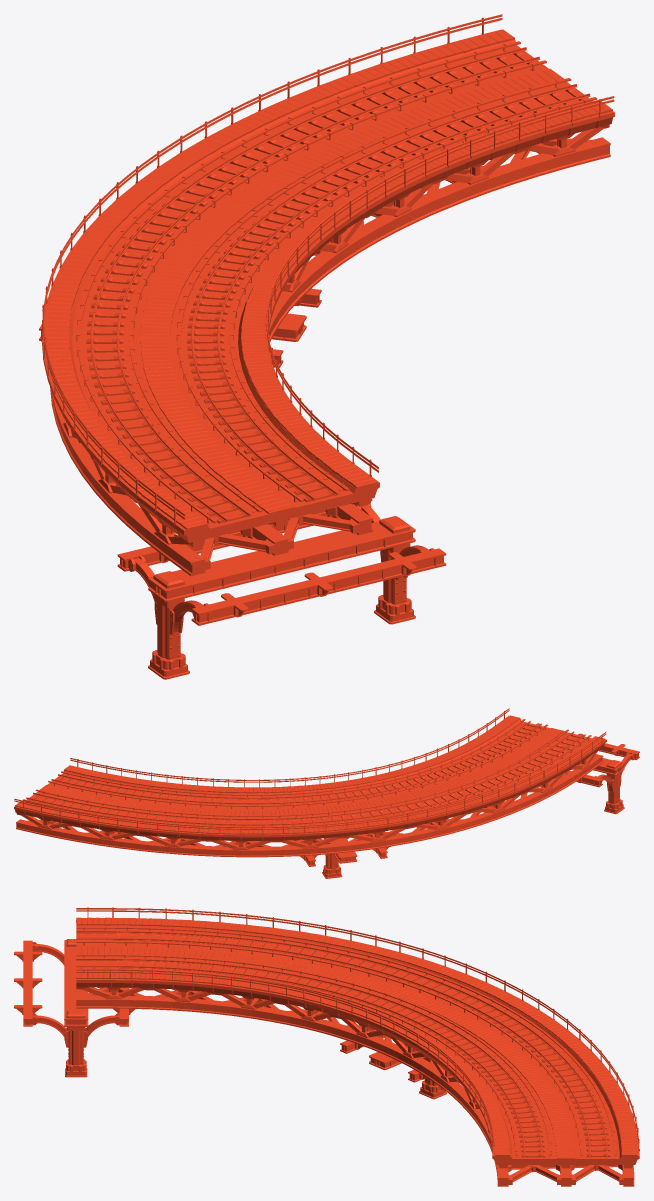
Rendered from SM_Rails_Overground_Turn_City.fbx.
3 views of the same model, one above another, from view 1: azimuth 30°, elevation 25°; view 2: azimuth 150°, elevation 25°; view 3: azimuth 270°, elevation 25° (orthographic). The views are drawn at different scales.
Parts seen in each view (by area): view 1: SM_Rails_Overground_Turn_City; view 2: SM_Rails_Overground_Turn_City; view 3: SM_Rails_Overground_Turn_City.
Part boxes in pixels (left/top/right/bottom): SM_Rails_Overground_Turn_City: left=39, top=14, right=614, bottom=679; SM_Rails_Overground_Turn_City: left=14, top=708, right=639, bottom=878; SM_Rails_Overground_Turn_City: left=14, top=907, right=639, bottom=1186.
Size of the model in its own units: 53.69 by 10.05 by 57.51.
